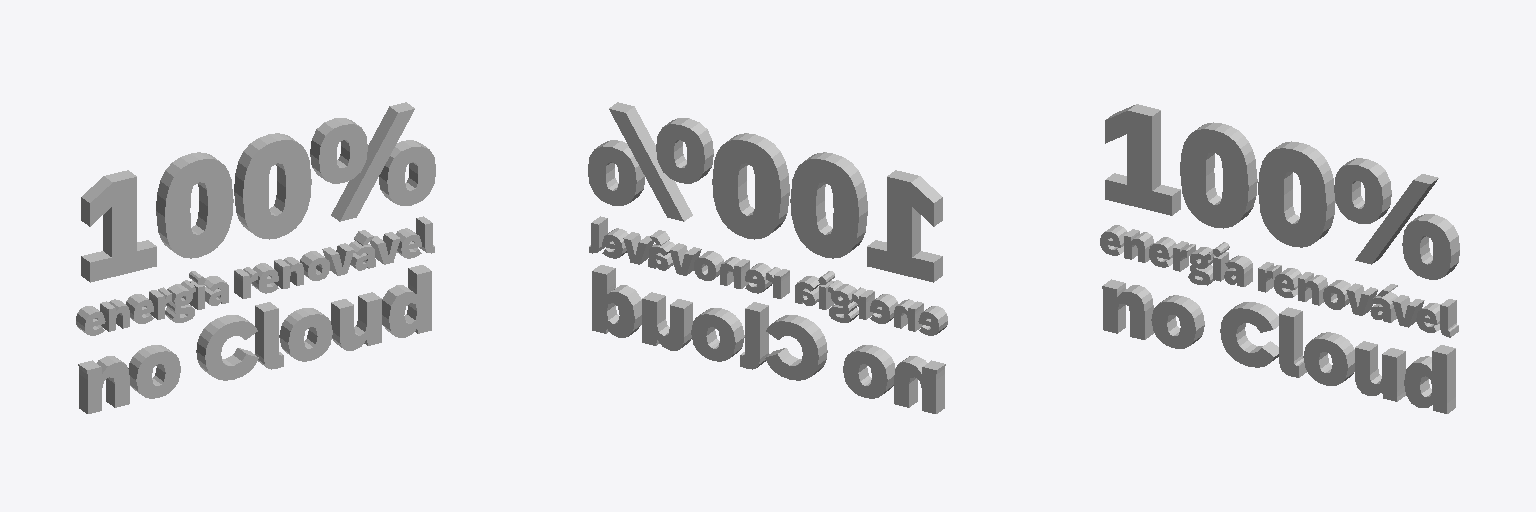
3 views of the same model, side by side, from view 1: azimuth 30°, elevation 25°; view 2: azimuth 150°, elevation 25°; view 3: azimuth 330°, elevation 25° (orthographic).
Visible parts, largest first — view 1: obj_0; view 2: obj_0; view 3: obj_0.
Part boxes in pixels (bbox=[...]): obj_0: bbox=[76, 102, 435, 413]; obj_0: bbox=[588, 102, 947, 413]; obj_0: bbox=[1100, 104, 1459, 413].
Size of the model in its own units: 728 by 452 by 32.